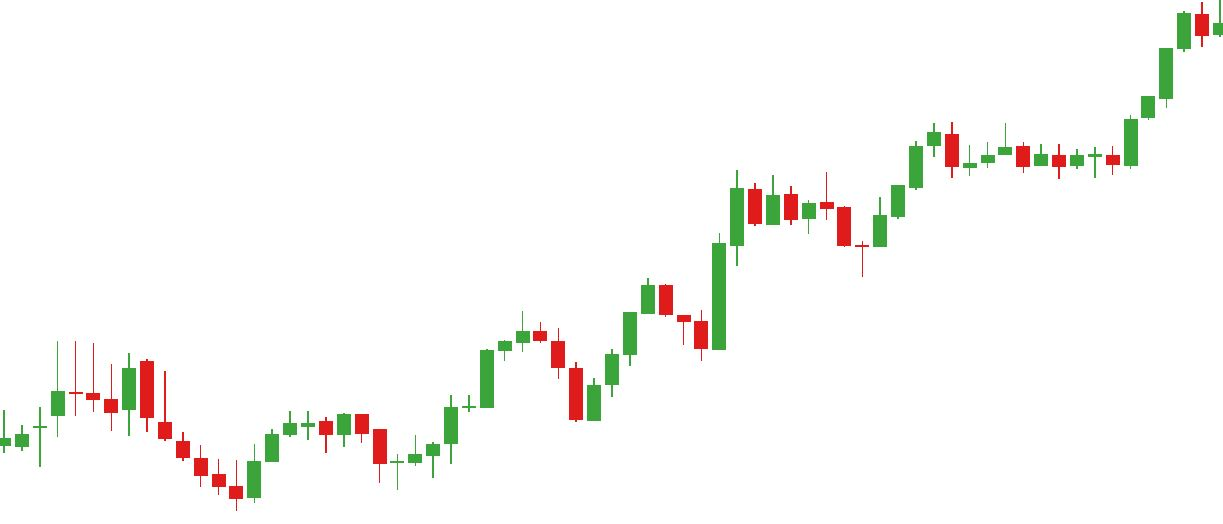buy: (459, 358, 603, 431)
